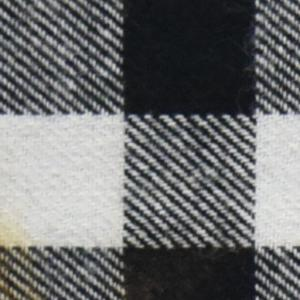Oil Stain: (1, 228, 42, 300)
